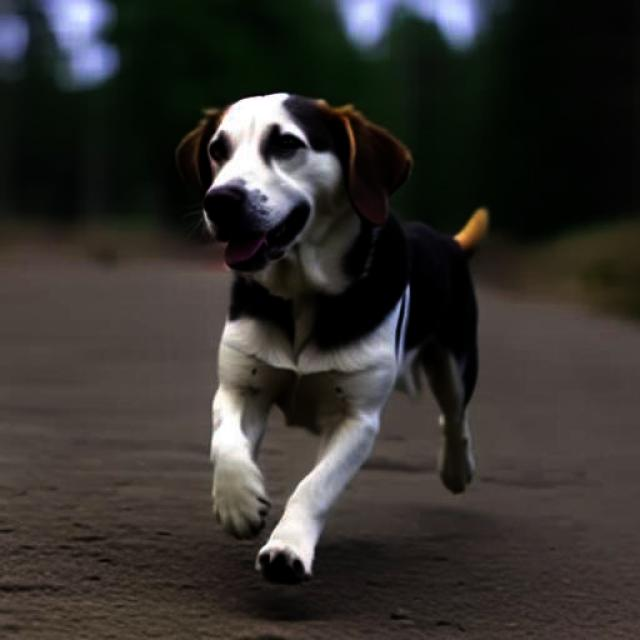Dog: (177, 93, 489, 583)
